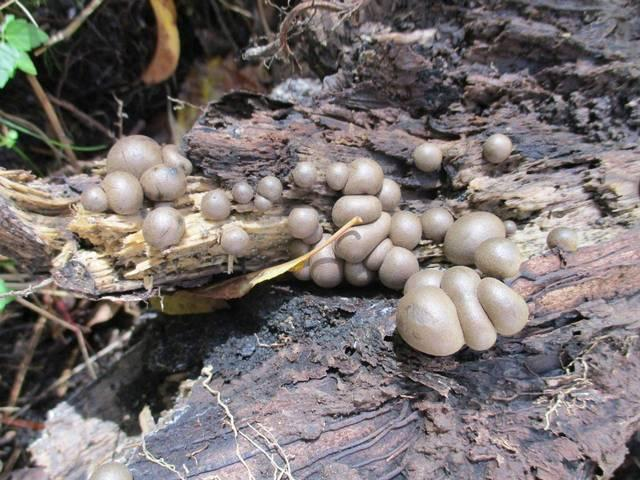poisonous_mushroom: (79, 132, 531, 355), (80, 133, 193, 250), (394, 264, 528, 356), (394, 285, 466, 356), (439, 264, 497, 351), (442, 209, 506, 265), (476, 276, 529, 336), (105, 133, 162, 177), (141, 204, 185, 249), (139, 163, 187, 202), (102, 169, 143, 214), (545, 226, 578, 266), (199, 188, 231, 221), (481, 132, 512, 164), (412, 141, 443, 173), (87, 461, 133, 479)
